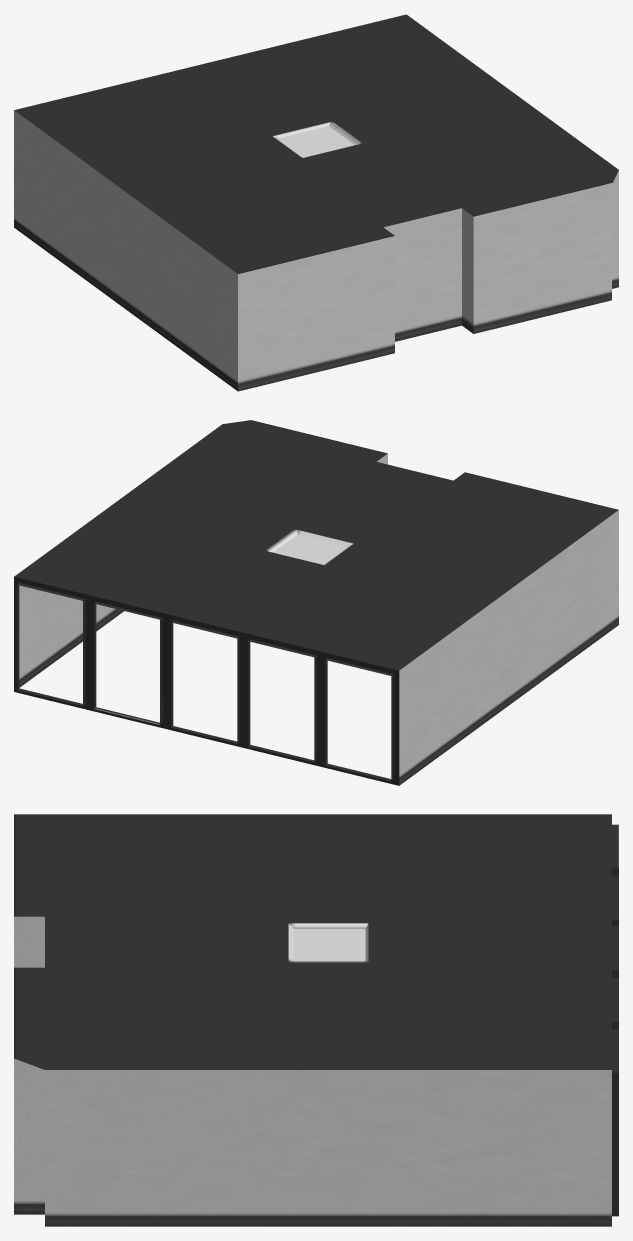
The model's file is room1.obj.
3 renders of one model, top to bottom at view 1: azimuth 30°, elevation 25°; view 2: azimuth 150°, elevation 25°; view 3: azimuth 270°, elevation 25°, orthographic. The views are drawn at different scales.
Visible parts, largest first — view 1: Cube.007; view 2: Cube.007; view 3: Cube.007.
Boxes of the visible parts, x1,y1,x2,y2 form: Cube.007: (14, 14, 618, 391); Cube.007: (14, 420, 618, 785); Cube.007: (14, 814, 618, 1226).
Size of the model in its own units: 14 by 4 by 14.
1 material, 1 textured.
